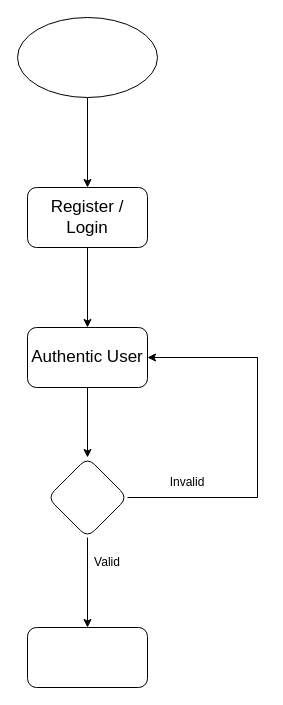
The diagram is 283 pixels wide and 705 high, and some of its shapes have lost their labels. The box of each missing label's shape, as (x1, y1, x2, y2) in pixels:
Home Page: (26, 626, 148, 688)
Start: (16, 16, 158, 98)
